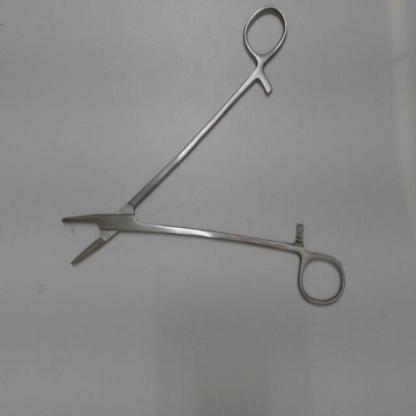8 Mayo Needle Holder: (53, 1, 352, 314)
